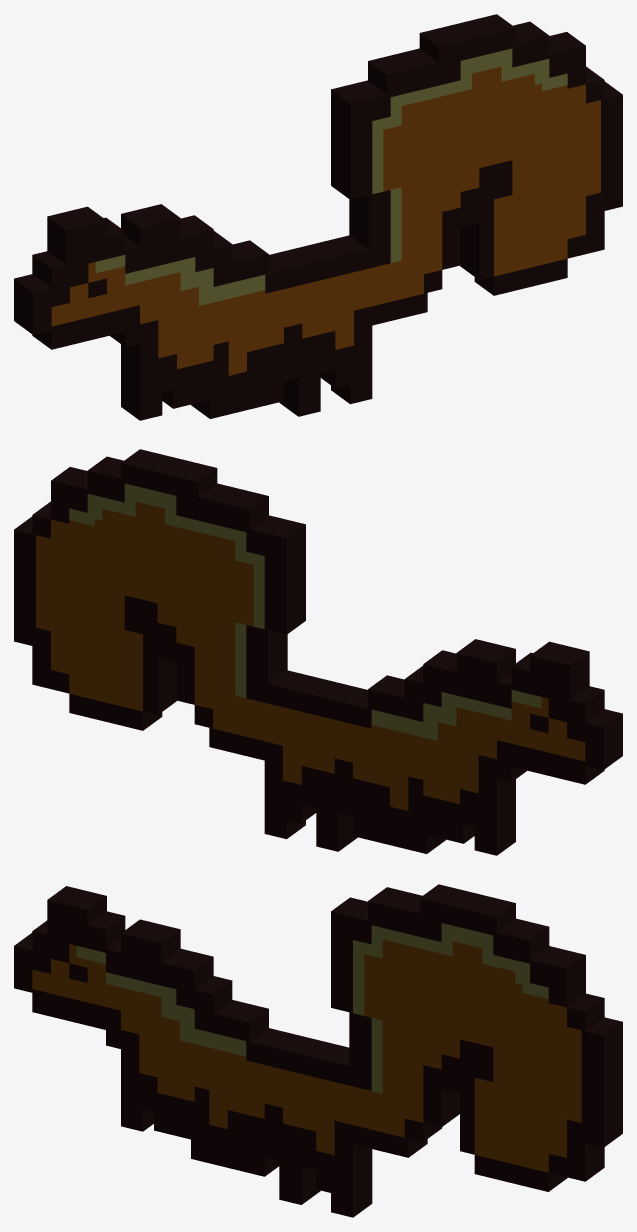
File: squirrel.glb
The picture shows the model from 3 angles, top to bottom: view 1: azimuth 30°, elevation 25°; view 2: azimuth 150°, elevation 25°; view 3: azimuth 330°, elevation 25°; orthographic projection.
Visible parts, largest first — view 1: Untitled; view 2: Untitled; view 3: Untitled.
Boxes of the visible parts, <box> form: Untitled: <box>14,14,622,420</box>; Untitled: <box>14,449,622,855</box>; Untitled: <box>14,884,622,1217</box>.
Bounding box in the file's own units: 16 × 8.7 × 0.9.
1 material, 1 textured.
